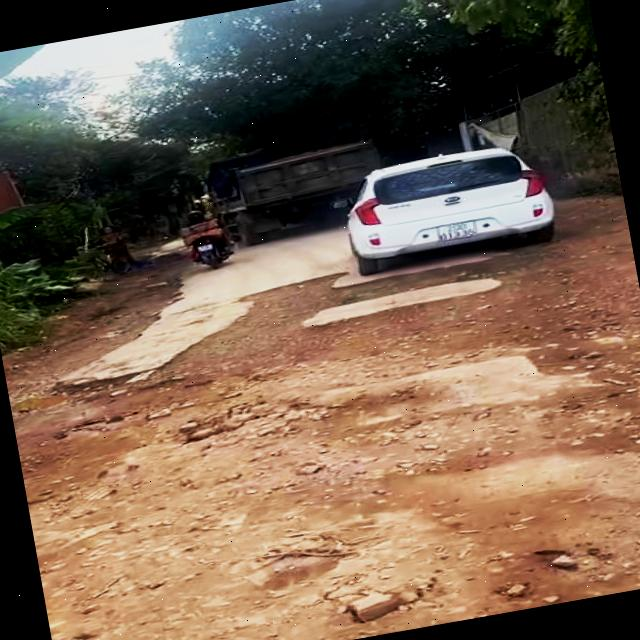pothole: (6, 308, 449, 550), (138, 242, 498, 424), (457, 230, 640, 471)
